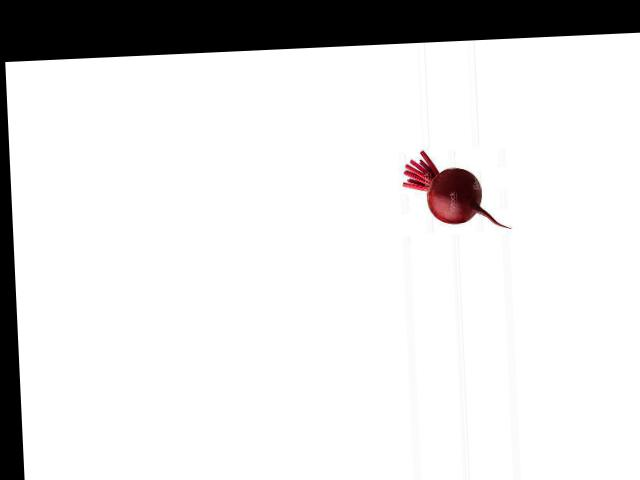beet: (401, 146, 509, 233)
